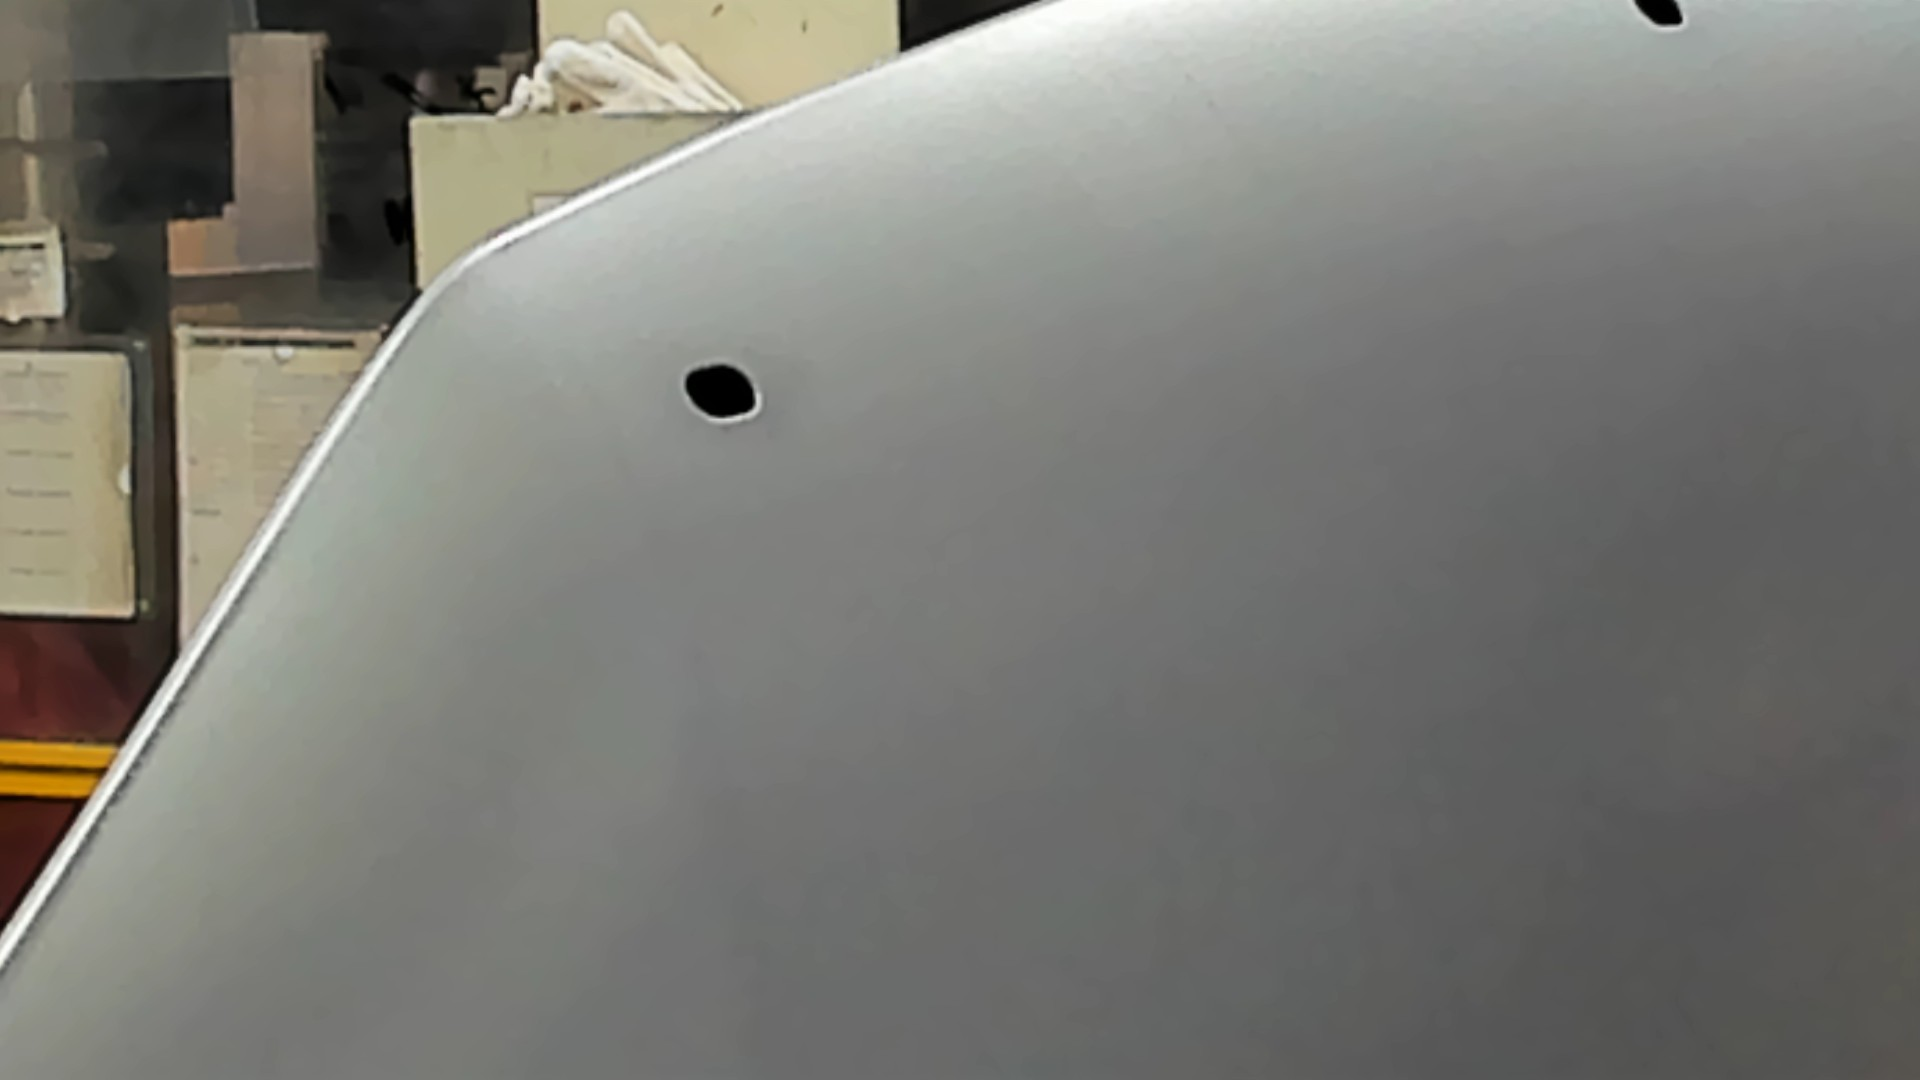amorfo: (673, 355, 769, 438), (1625, 1, 1697, 41)
capo: (857, 125, 1920, 1080)
